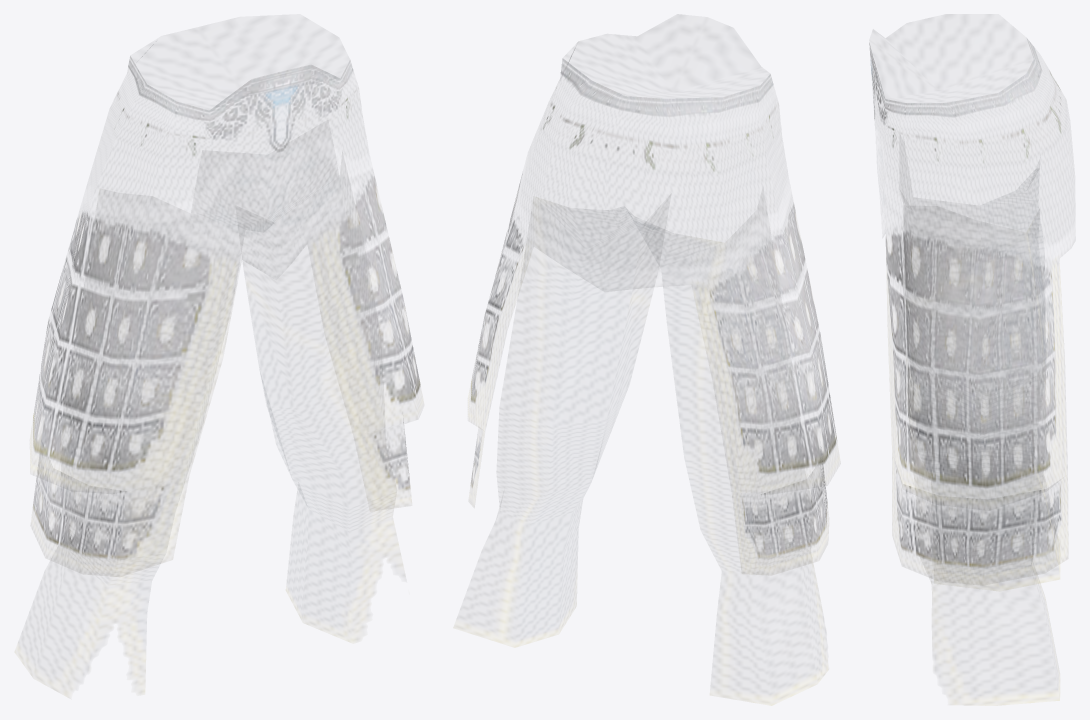
The model's file is heavy_04_la.glb.
3 views of the same model, side by side, from view 1: azimuth 30°, elevation 25°; view 2: azimuth 150°, elevation 25°; view 3: azimuth 270°, elevation 25° (orthographic). The views are drawn at different scales.
Parts seen in each view (by area): view 1: heavy_04_la; view 2: heavy_04_la; view 3: heavy_04_la.
Boxes of the visible parts, box(x1,y1,x2,y2) form: heavy_04_la: box(33, 41, 420, 576); heavy_04_la: box(470, 42, 836, 575); heavy_04_la: box(869, 38, 1061, 590).
Bounding box in the file's own units: 0.5191 × 0.8132 × 0.2572.
Materials: 1 (1 with a texture image).
